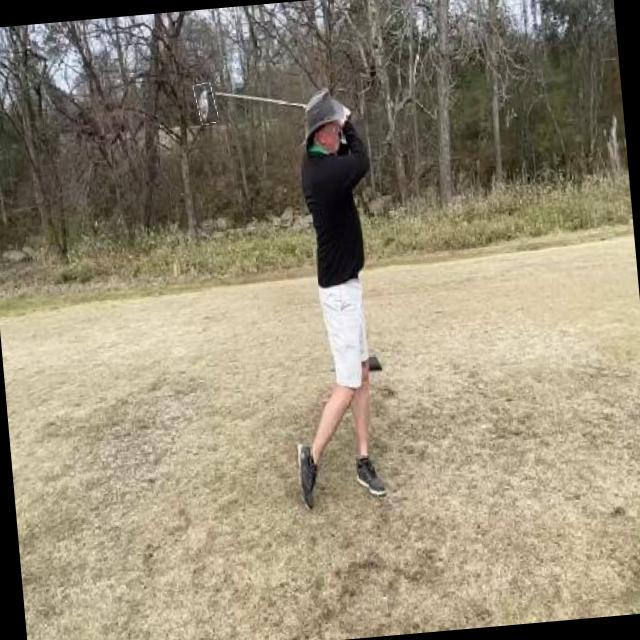club head: (194, 82, 216, 124)
